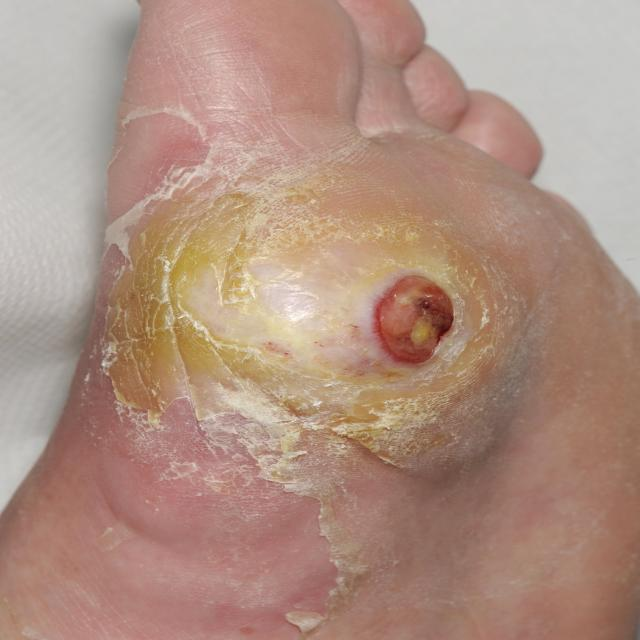wound: (370, 274, 456, 365)
